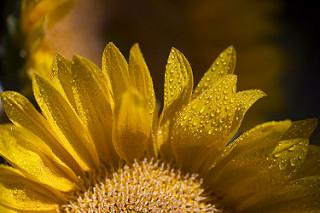sunflower: (0, 40, 320, 213)
